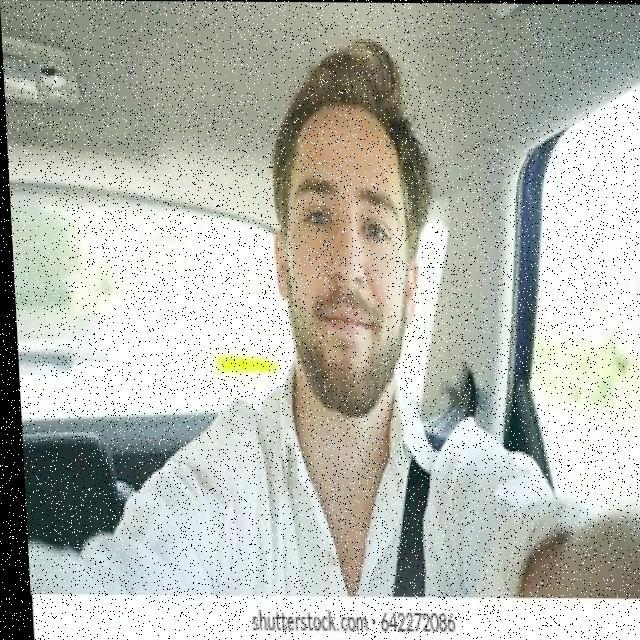seatbelt: (344, 393, 518, 592)
